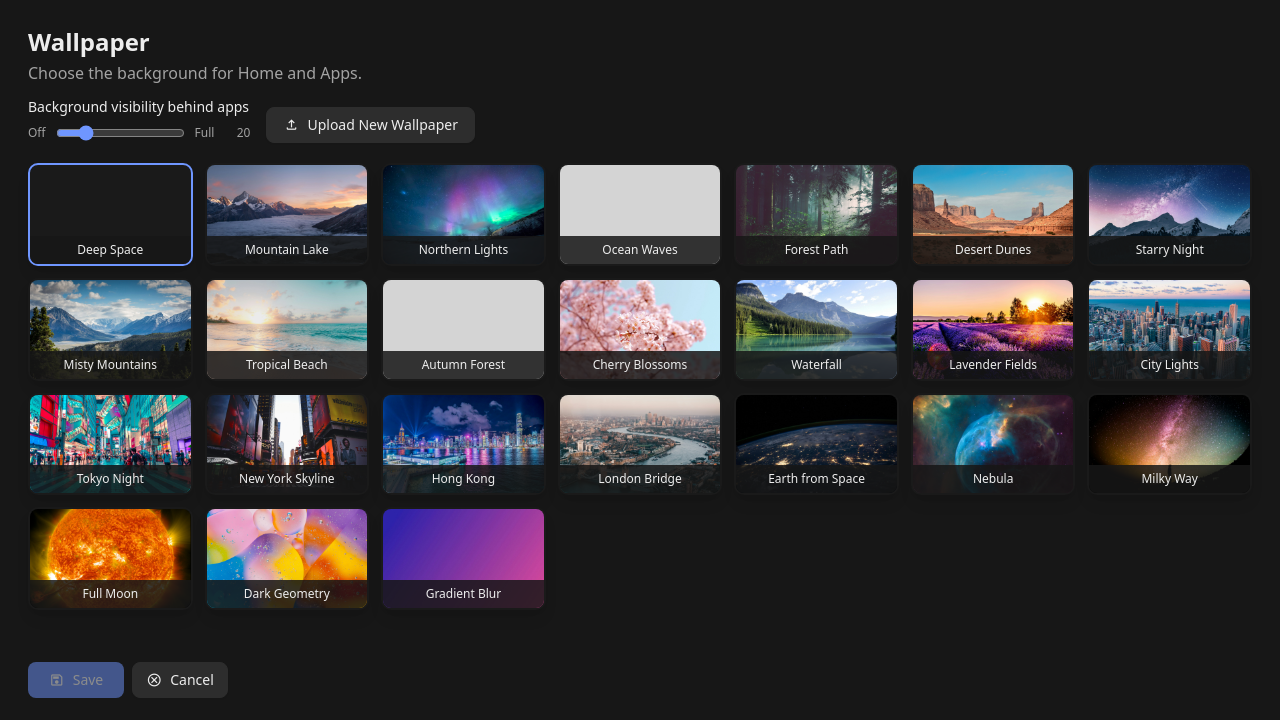
Test: WallpaperModule save/cancel › Save commits the new snapshot and disables the pair again
Expected: the slider labelled "Background visibility behind apps" is shown, [56,125,185,141]
Click the button "Starry Night" at (1170, 214), box [1087,163,1252,266]
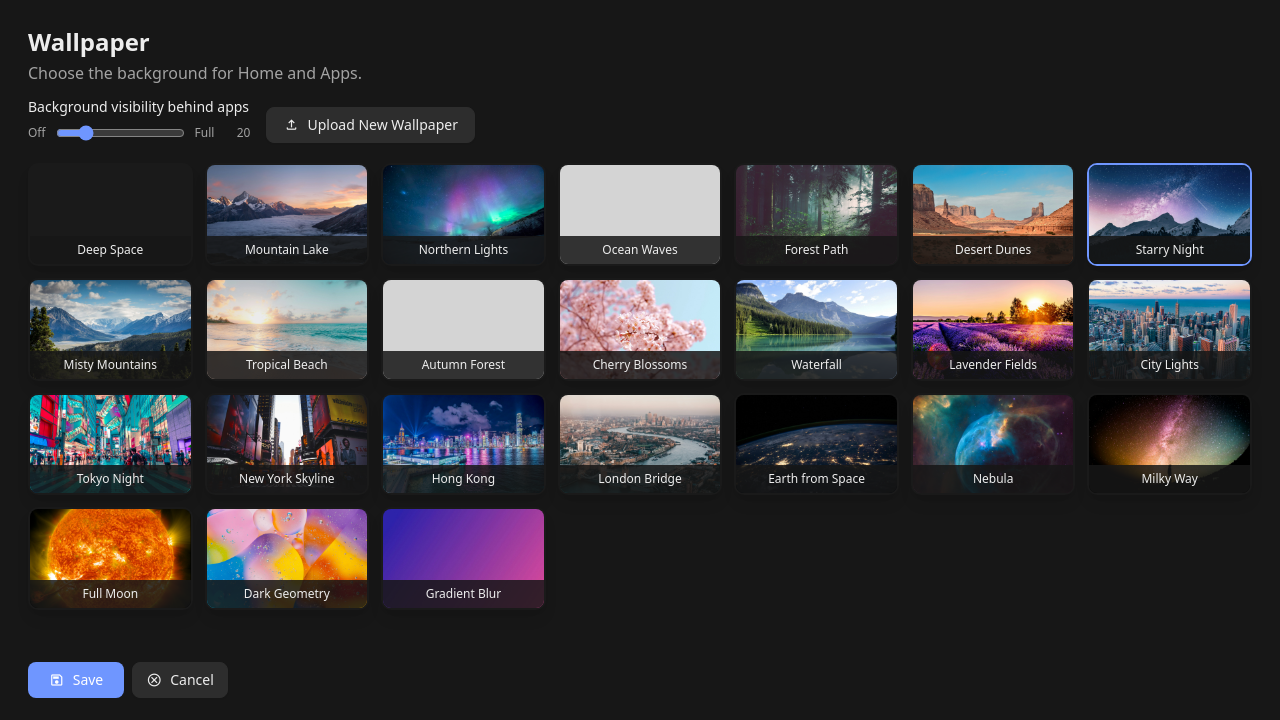
Now the button "Save" is enabled
Click the button "Save" at (76, 680), box [28,662,124,698]
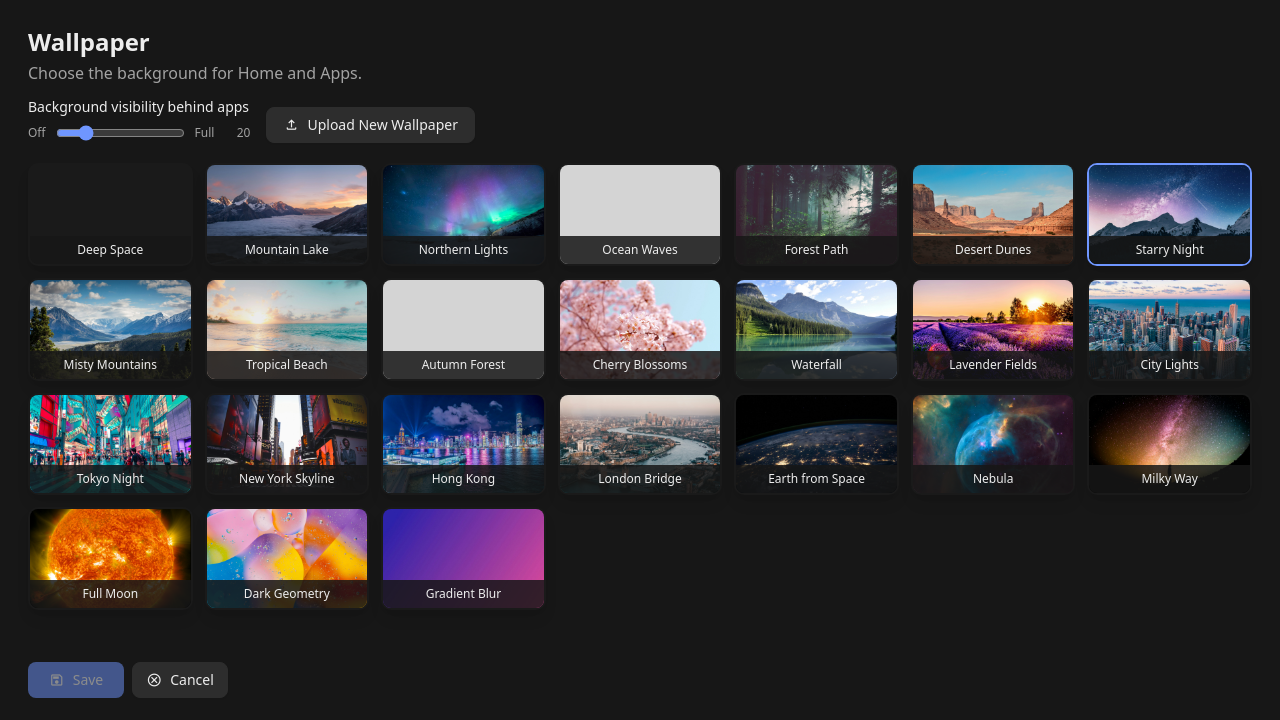
Now the button "Save" is disabled, box [28,662,124,698]
